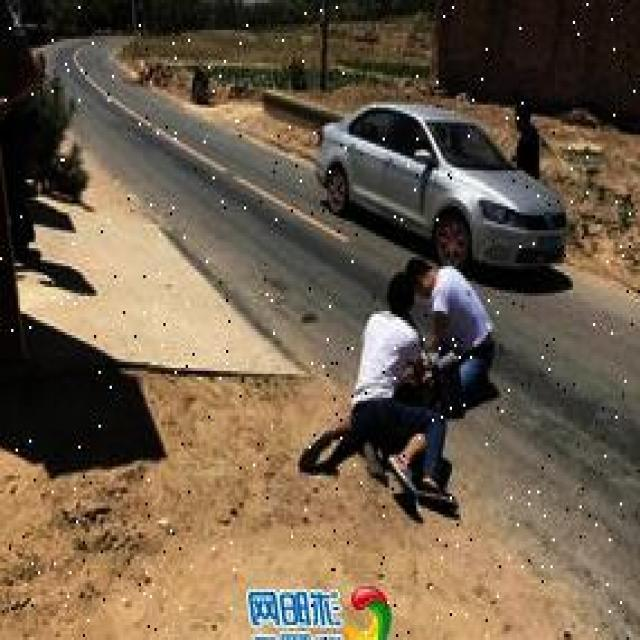fall: (349, 276, 454, 518)
